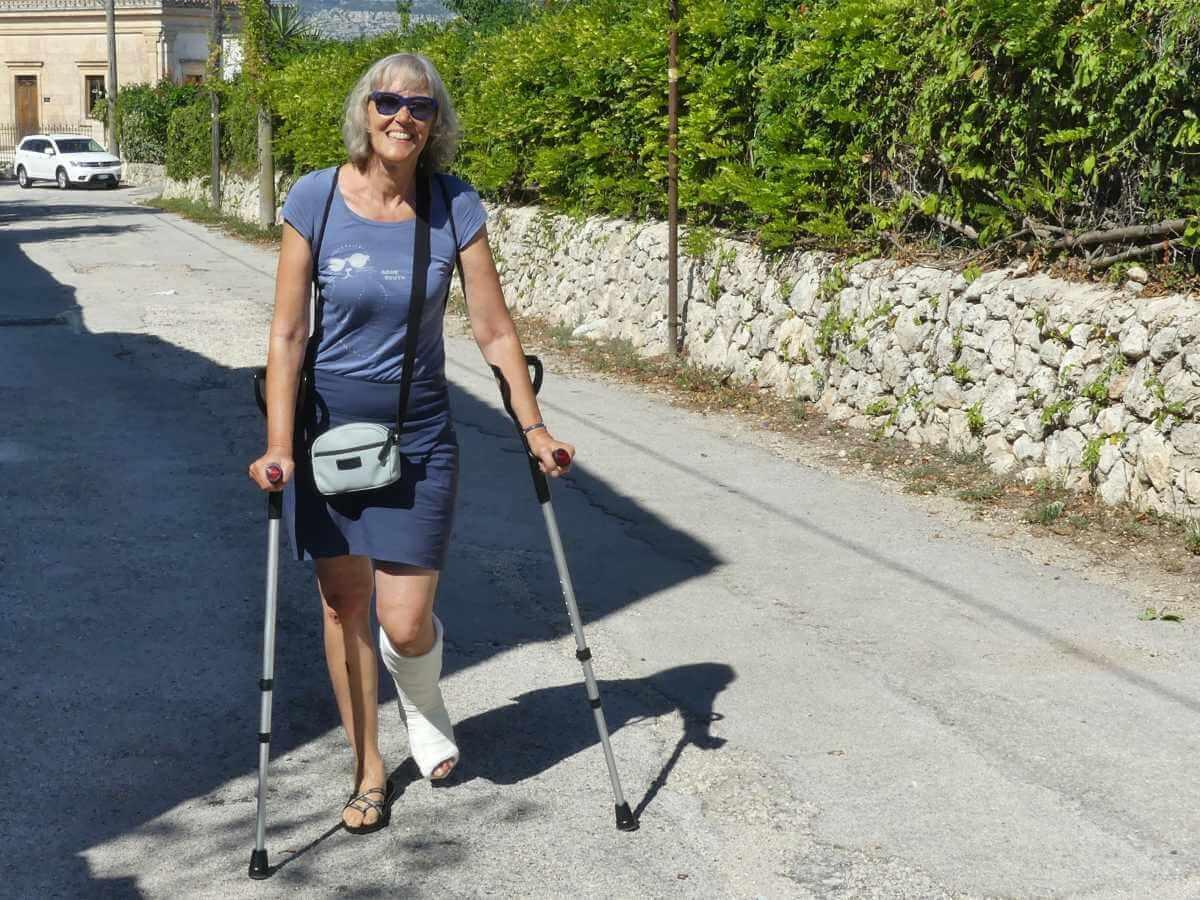crutches: (250, 50, 638, 879)
